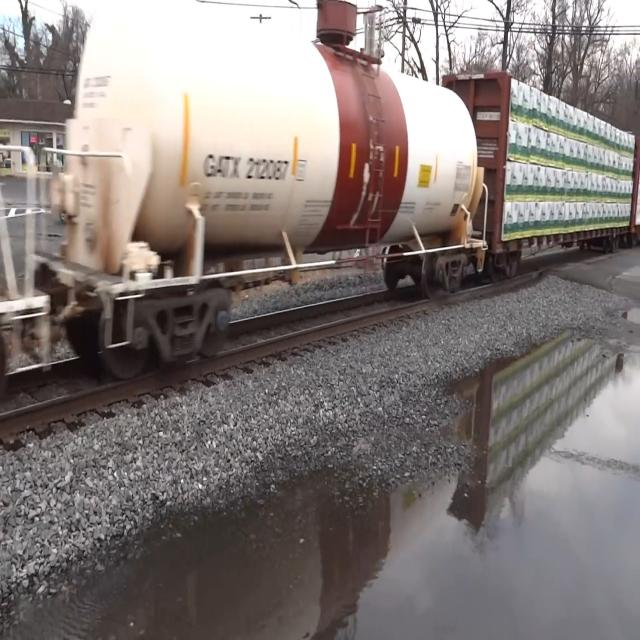cargo: (504, 66, 637, 220)
flatcar_bulkhead: (453, 64, 640, 284)
tank: (40, 0, 492, 380)
